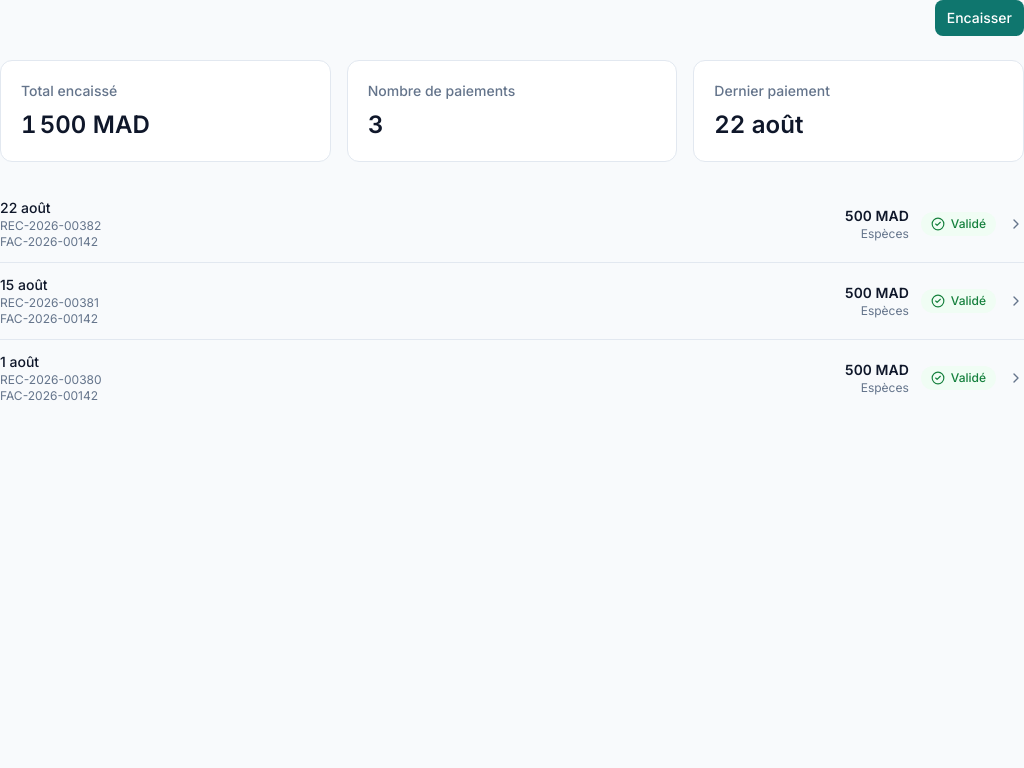
Test: PatientPaymentsContent › opens the capture dialog via Encaisser (10)
Click the button "Encaisser": coordinates (979, 18) [935, 0, 1023, 36]
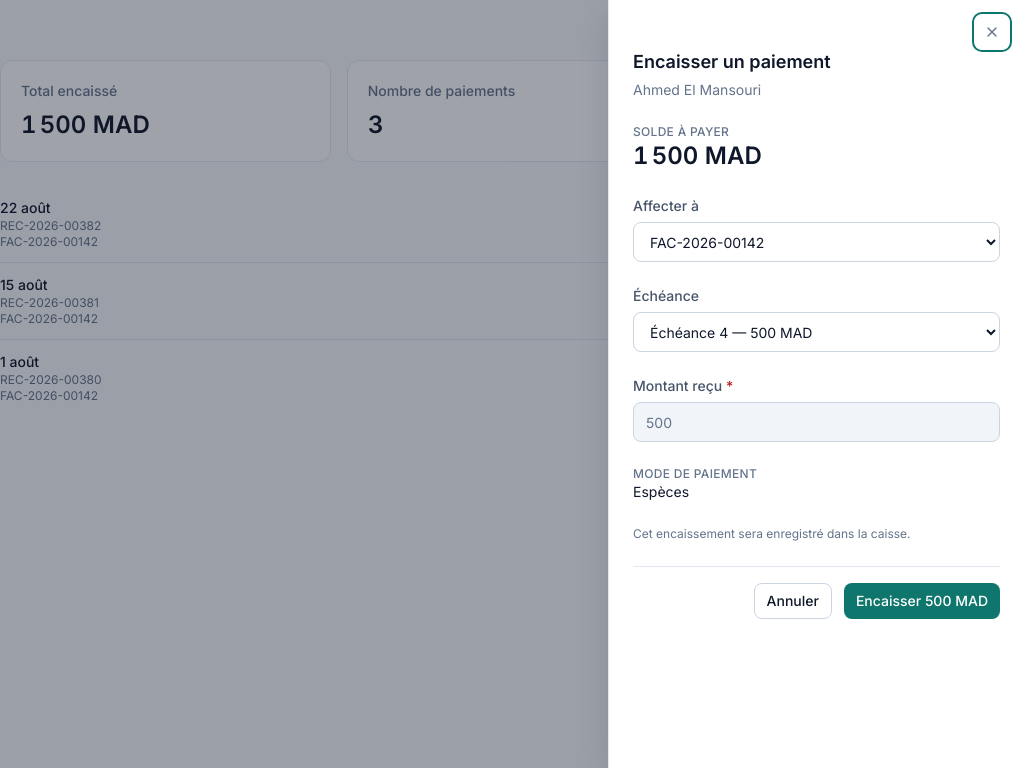
Expected: the text "Ahmed El Mansouri" is shown, [633, 81, 761, 98]
